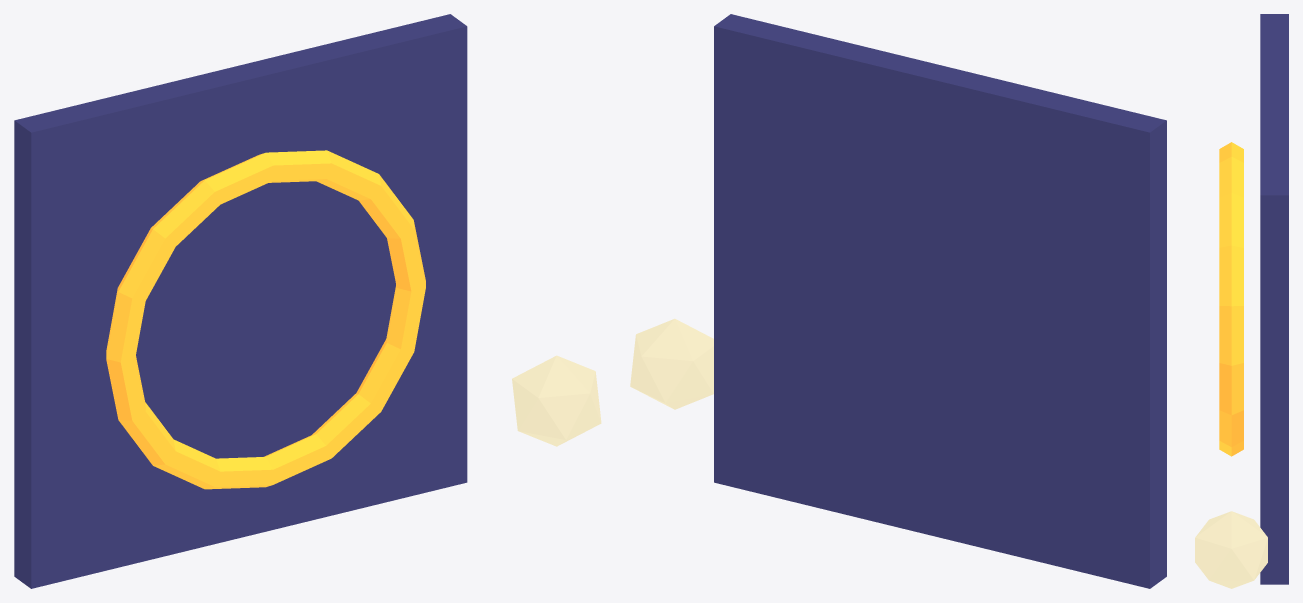
File: neon_sign.out_sign.glb
3 renders of one model, left to right at view 1: azimuth 30°, elevation 25°; view 2: azimuth 150°, elevation 25°; view 3: azimuth 270°, elevation 25°, orthographic. The views are drawn at different scales.
Visible parts, largest first — view 1: Board, Tube, Lamp; view 2: Board, Lamp; view 3: Board, Tube, Lamp.
Boxes of the visible parts, x1,y1,x2,y2 form: Board: (14, 14, 467, 588); Tube: (106, 150, 425, 489); Lamp: (512, 355, 601, 446); Board: (714, 14, 1166, 588); Lamp: (630, 318, 713, 409); Board: (1260, 14, 1288, 584); Tube: (1219, 142, 1243, 456); Lamp: (1195, 511, 1267, 588).
Bounding box in the file's own units: 3.77 × 3 × 0.6552.
